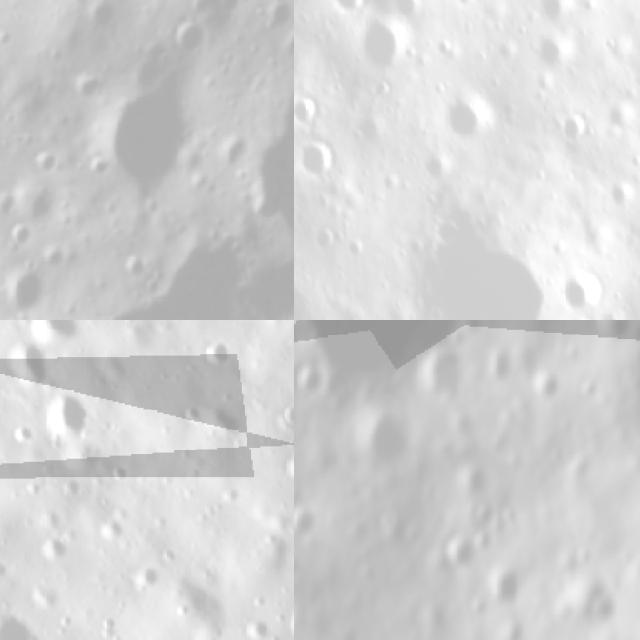crater: (389, 196, 567, 320), (84, 65, 206, 205), (294, 320, 481, 393), (22, 379, 117, 477), (0, 333, 70, 413), (348, 6, 420, 81), (350, 409, 416, 475), (553, 259, 614, 320), (443, 92, 509, 148), (419, 345, 476, 405), (609, 320, 640, 425), (158, 9, 215, 65), (0, 259, 49, 320), (197, 332, 251, 387), (0, 592, 60, 640), (482, 563, 536, 614), (294, 132, 349, 179), (22, 320, 88, 359), (434, 525, 476, 581), (555, 103, 601, 152), (536, 32, 583, 78), (581, 590, 628, 636), (530, 360, 568, 407), (513, 0, 576, 26), (268, 388, 294, 451), (294, 84, 327, 133), (456, 462, 493, 502), (418, 143, 454, 183), (294, 367, 329, 407), (605, 174, 640, 212), (294, 504, 320, 550), (486, 347, 517, 385), (329, 0, 372, 21), (589, 320, 626, 341), (279, 447, 294, 498)
